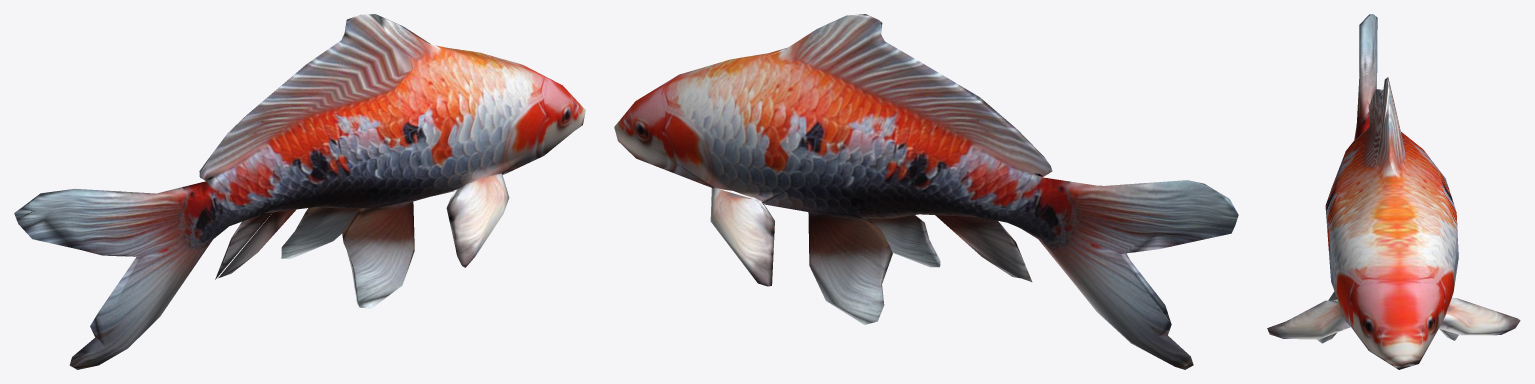
The model's file is fish.glb.
3 renders of one model, left to right at view 1: azimuth 30°, elevation 25°; view 2: azimuth 150°, elevation 25°; view 3: azimuth 270°, elevation 25°, orthographic. The views are drawn at different scales.
Parts seen in each view (by area): view 1: Fish; view 2: Fish; view 3: Fish.
Part boxes in pixels (bbox=[...]): Fish: bbox=[14, 14, 585, 369]; Fish: bbox=[614, 14, 1238, 369]; Fish: bbox=[1267, 14, 1520, 369].
Bounding box in the file's own units: 6.39 × 2.89 × 2.34.
Materials: 1 (1 with a texture image).
